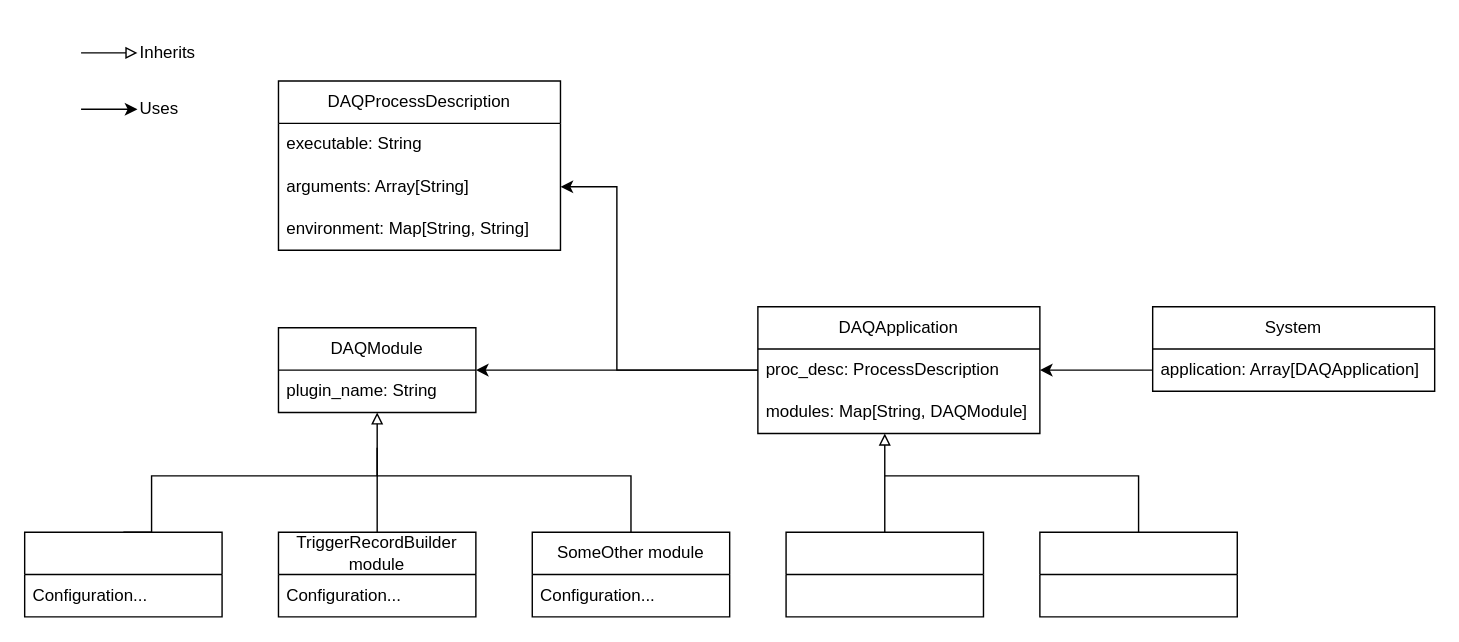
The diagram is 1459 pixels wide and 642 high, and some of its shapes have lost their labels. Here are the shapes that lost their labels. From the top down, the box of each, then its label:
(23, 531, 222, 617): DFO module
(785, 531, 983, 617): DFOApplication
(1038, 531, 1237, 617): ABCApplication
